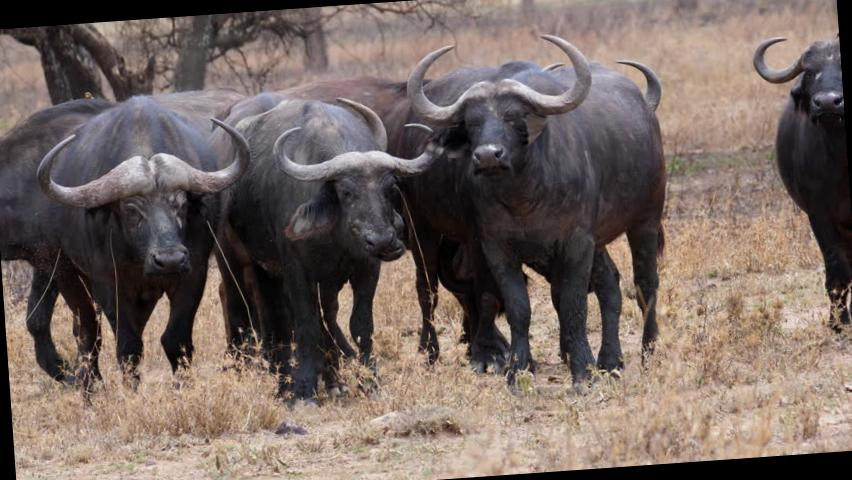Buffalo: (18, 11, 852, 411)
